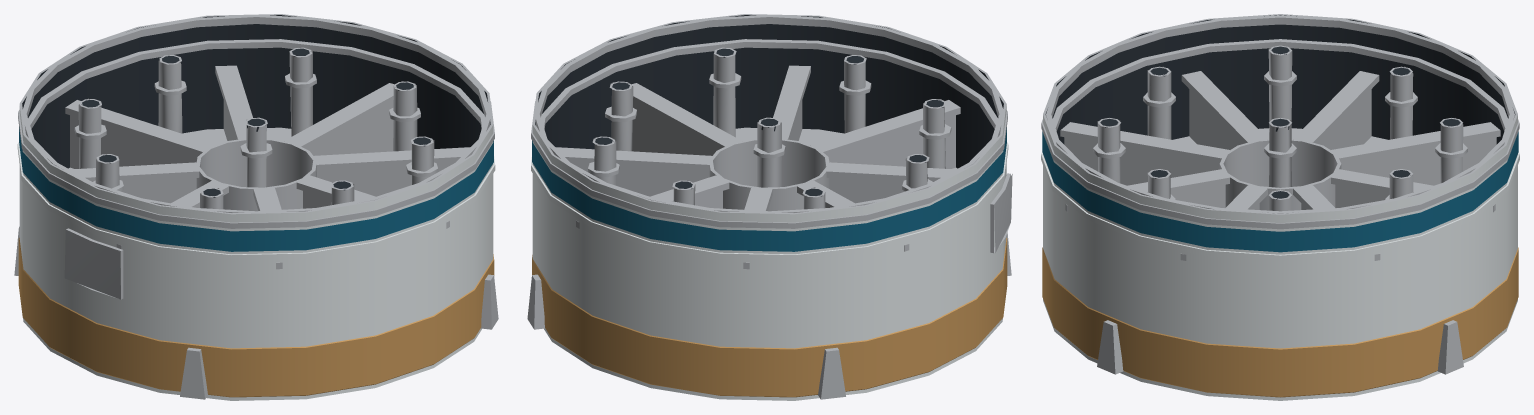
Rendered from mount_s1_9_d37.glb.
3 views of the same model, side by side, from view 1: azimuth 30°, elevation 25°; view 2: azimuth 150°, elevation 25°; view 3: azimuth 270°, elevation 25° (orthographic).
Visible parts, largest first — view 1: mount_s1_9_d37_mesh; view 2: mount_s1_9_d37_mesh; view 3: mount_s1_9_d37_mesh.
Part boxes in pixels (x1,y1,x2,y2): mount_s1_9_d37_mesh: [14, 14, 498, 400]; mount_s1_9_d37_mesh: [527, 14, 1012, 400]; mount_s1_9_d37_mesh: [1041, 14, 1519, 400].
Bounding box in the file's own units: 3.74 × 1.6 × 3.73.
